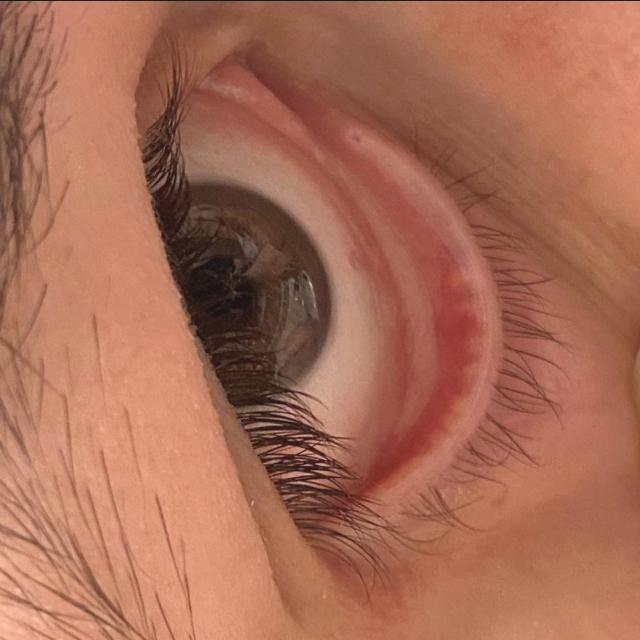conjunctiva_pallor: (293, 122, 486, 490)
